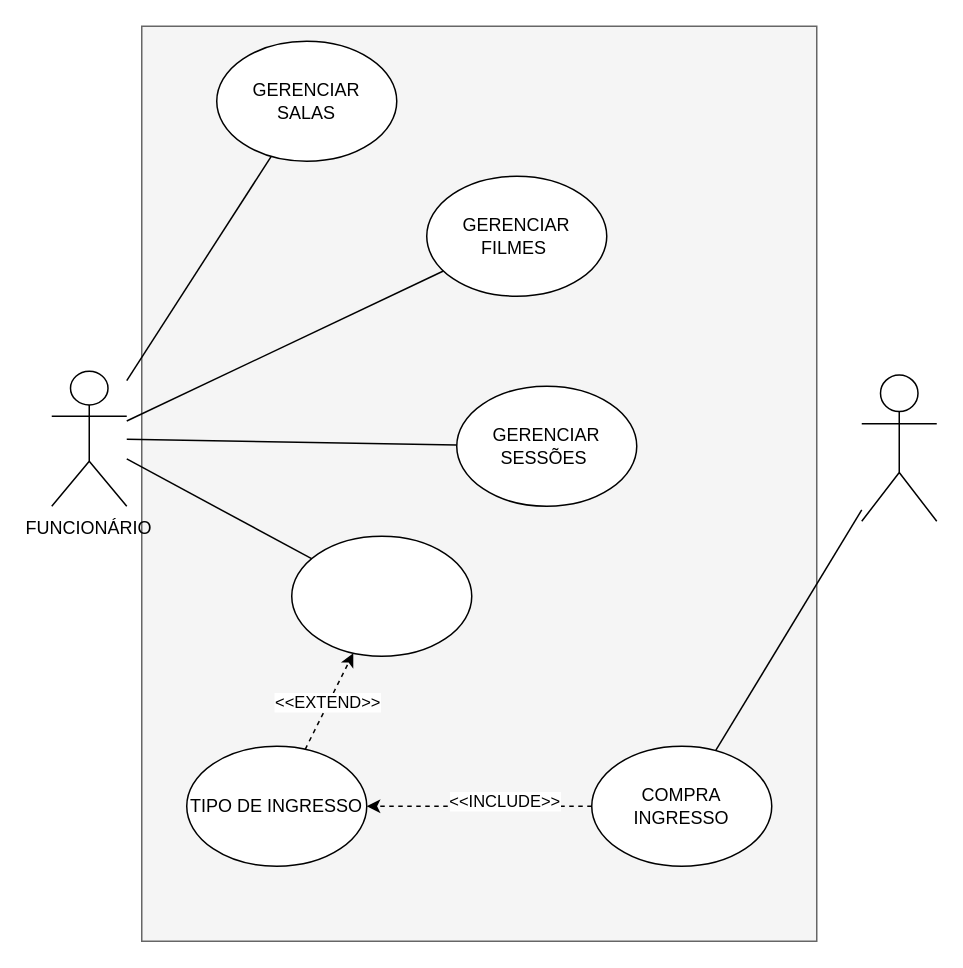
Image size: 963x968. Some labels were removed from this diagram. The box of each missing label's shape, as (x1, y1, x2, y2) in pixels:
CLIENTE: (860, 374, 937, 521)
GERENCIAR BILHETERIA: (290, 535, 472, 656)
